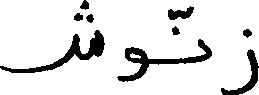X: (0, 0, 102, 77), (223, 24, 258, 94), (119, 42, 145, 86), (199, 34, 209, 66)
